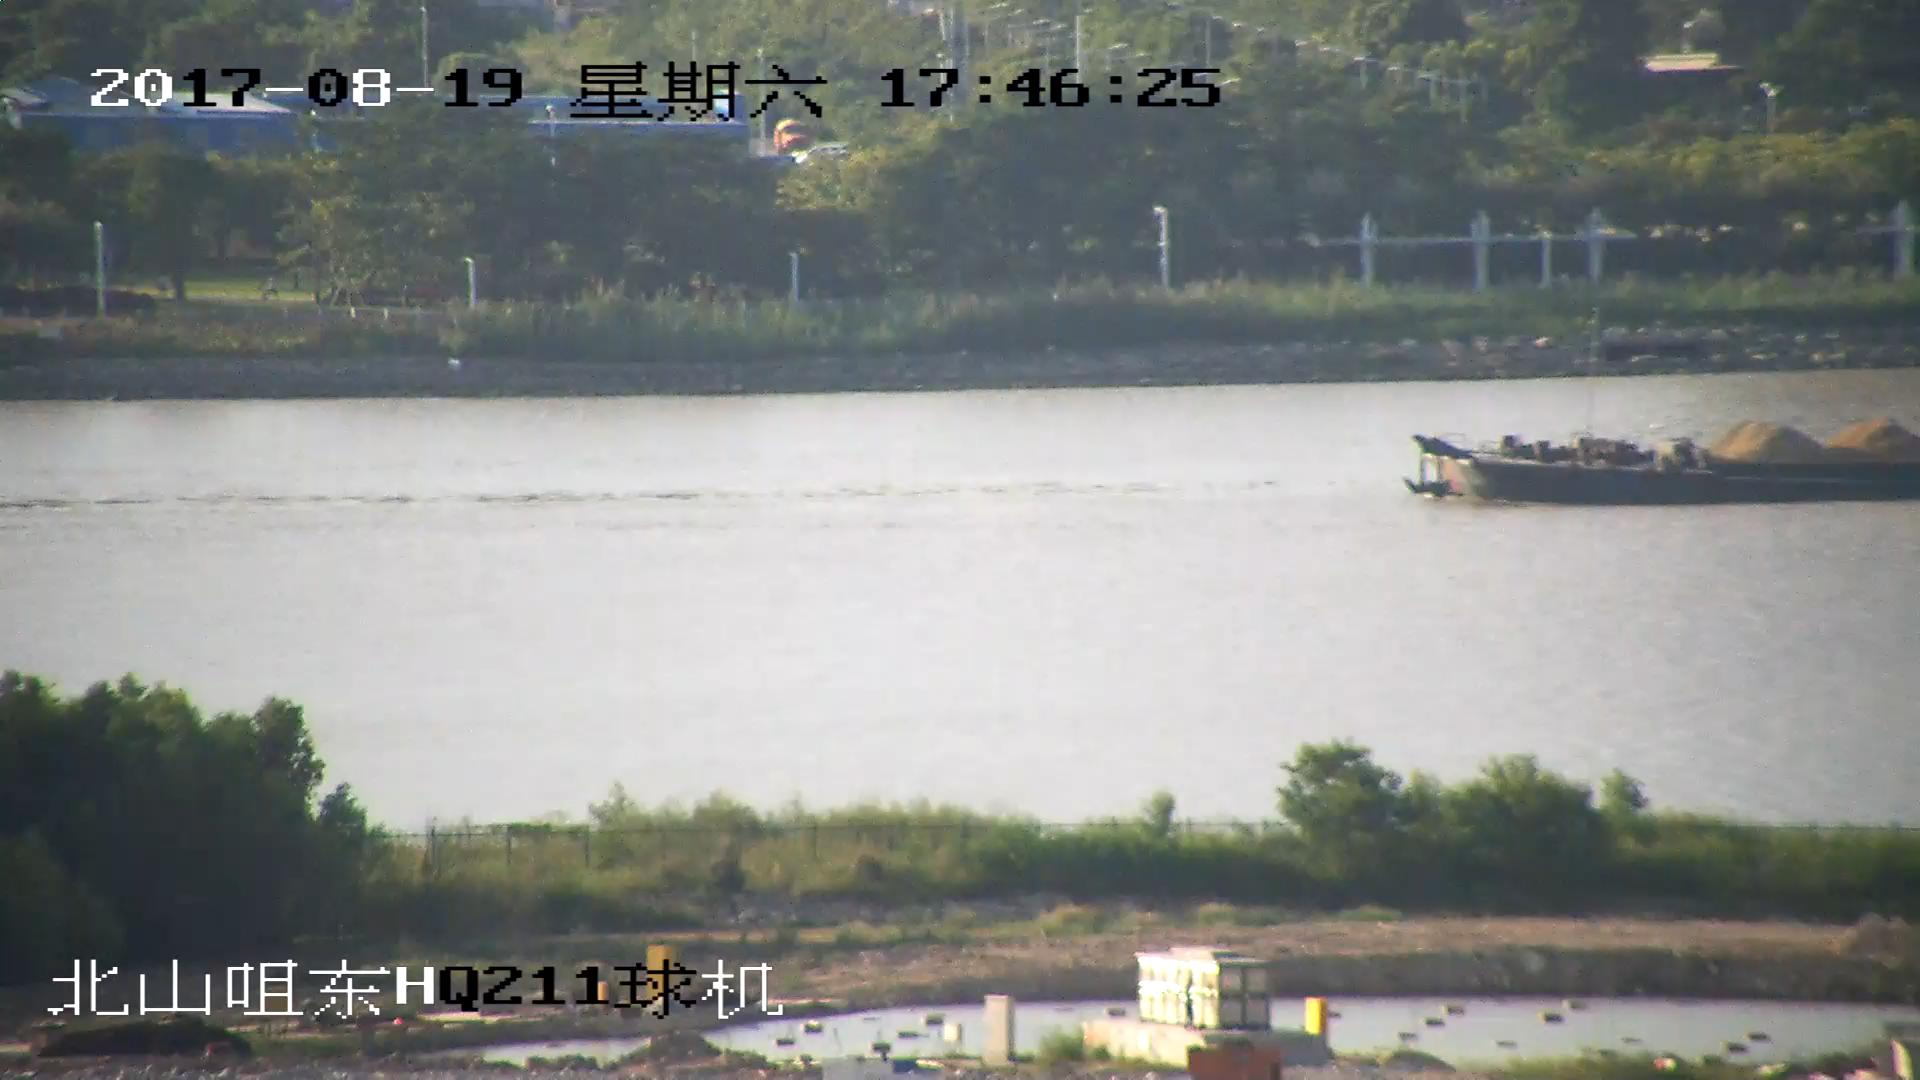ore carrier: (1402, 408, 1920, 511)
